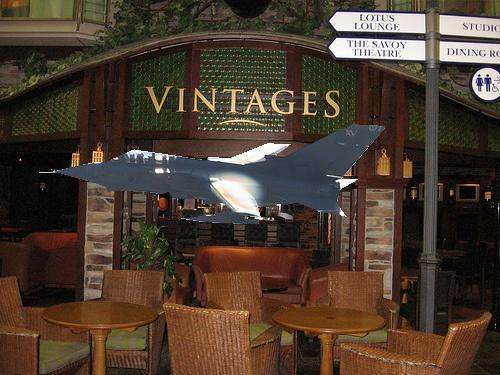tampered: (40, 125, 385, 224)
